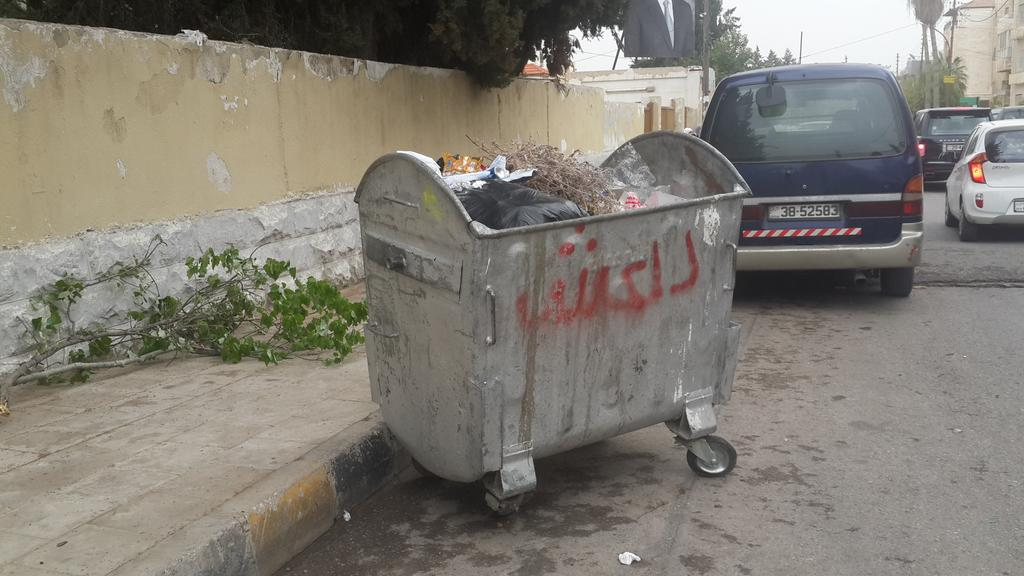trash_container: (352, 115, 772, 505)
